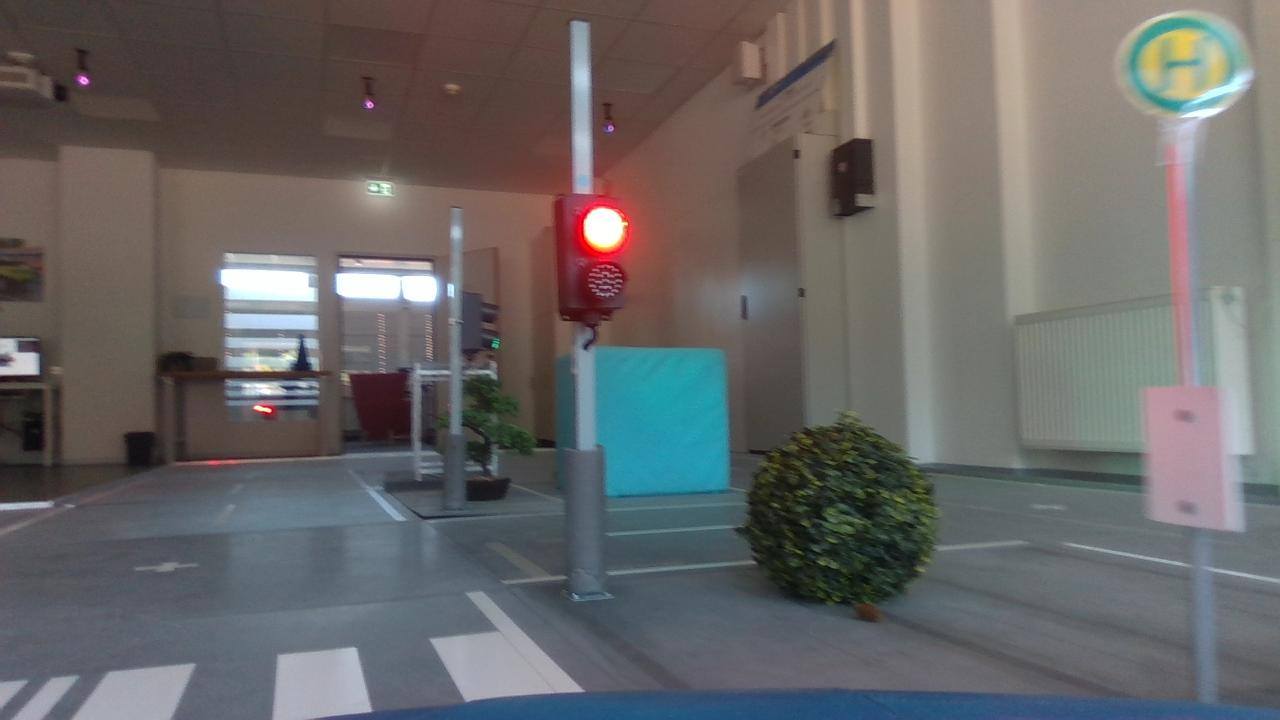traffic_light_red: (535, 176, 645, 337)
